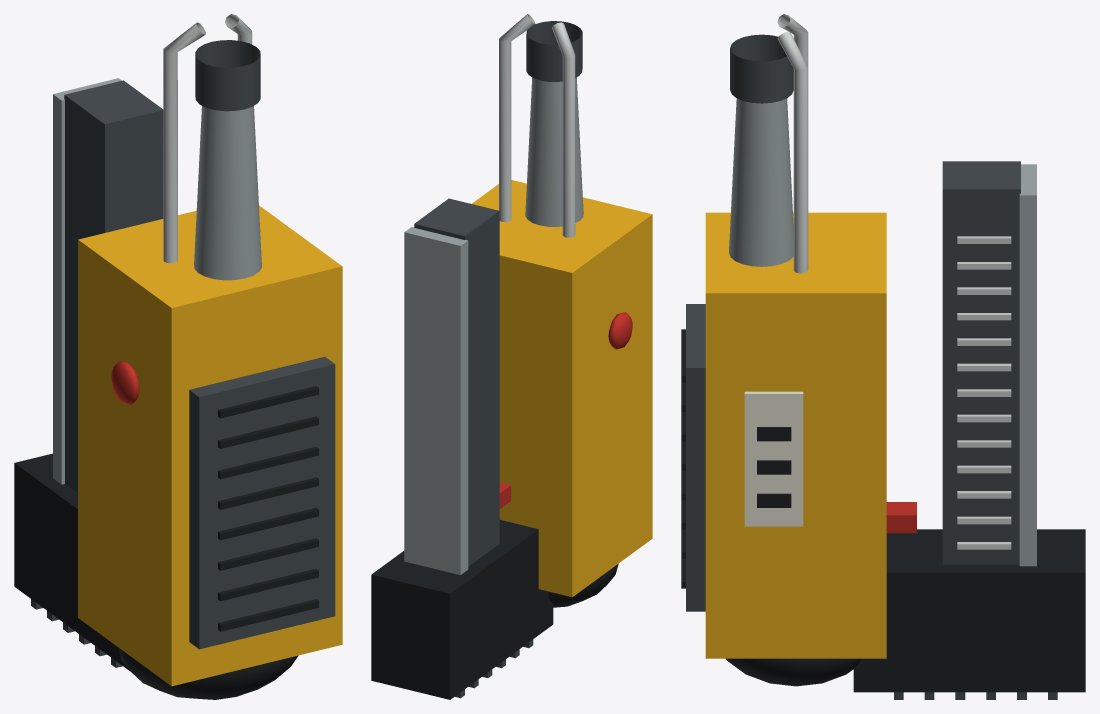
The model's file is nail_gun.obj.
3 views of the same model, side by side, from view 1: azimuth 30°, elevation 25°; view 2: azimuth 150°, elevation 25°; view 3: azimuth 270°, elevation 25° (orthographic). The views are drawn at different scales.
Bounding box in the file's own units: 0.087 × 0.2962 × 0.1655.
Materials: 1 (1 with a texture image).
